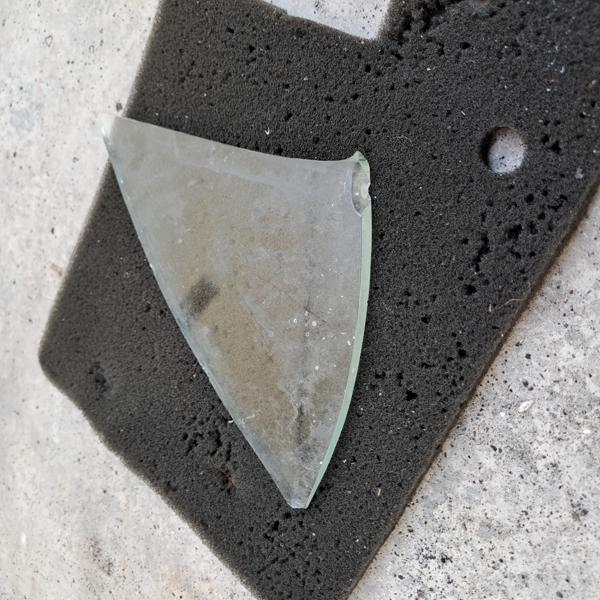Anorganik: (82, 93, 385, 510)
